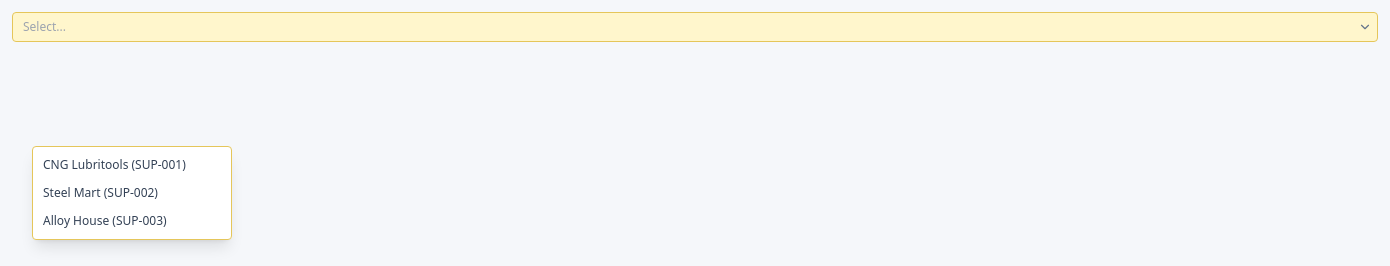
Scenario: SearchableSelect portal list › picks with the mouse and with the keyboard; Escape closes
Earlier steps of the test are not shown.
Click the option "Steel Mart (SUP-002)".
click(100, 192)  # box [43,184,158,201]
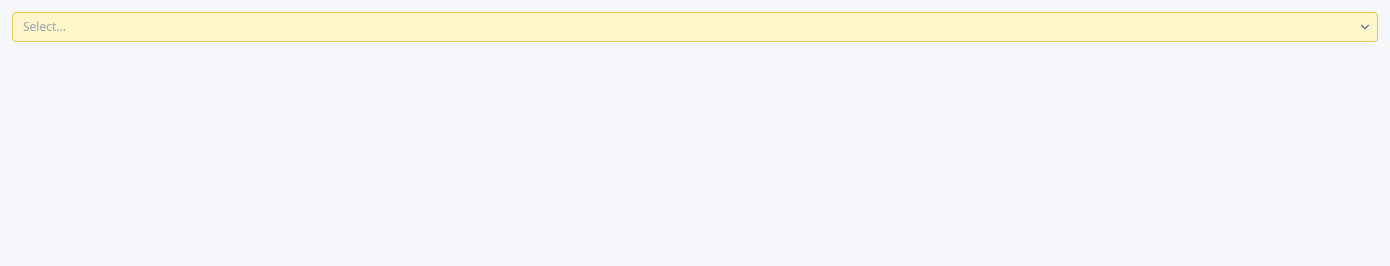
Check: the list is gone
Press ArrowDown in the dropdown named "Supplier", box [12,12,1378,42]
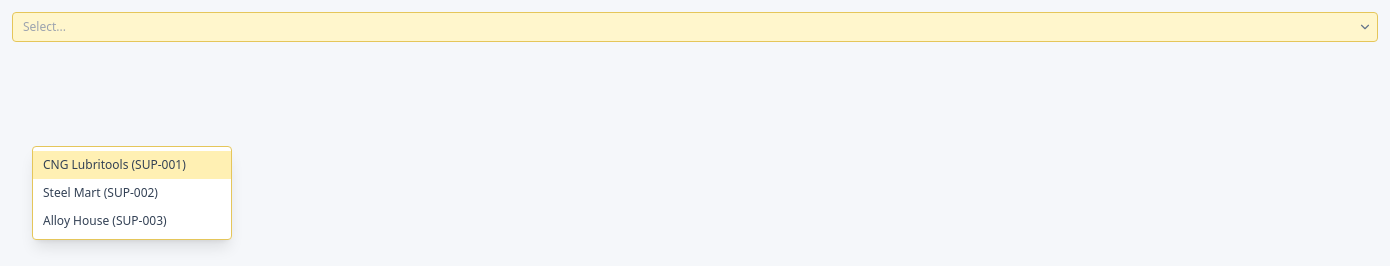
Check: the list is shown, box [32,146,232,240]
Type "alloy" into the dropdown named "Supplier".
click(695, 27); type("alloy")  # box [12,12,1378,42]
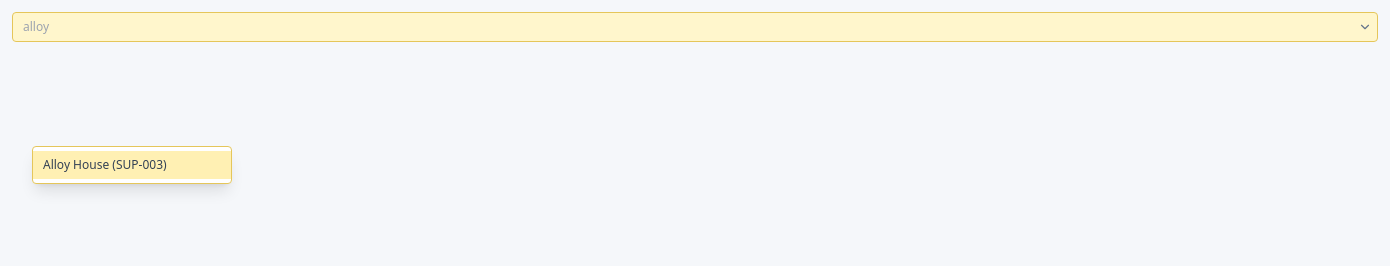
Press Enter in the dropdown named "Supplier", box [12,12,1378,42]
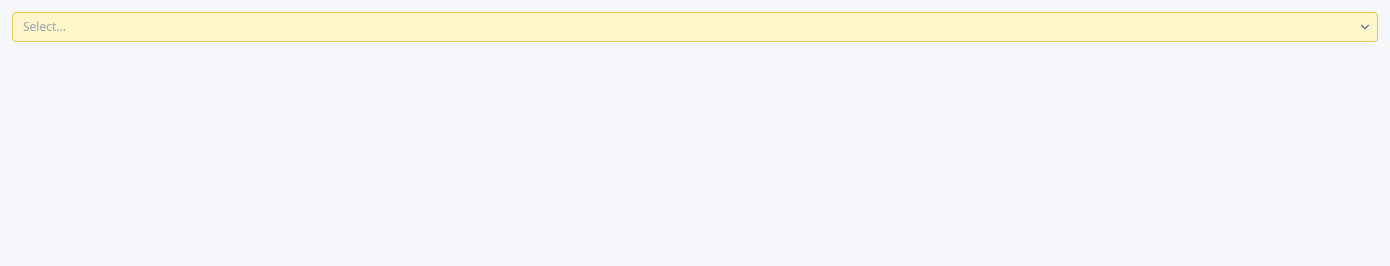
Click the dropdown named "Supplier".
click(695, 27)  # box [12,12,1378,42]
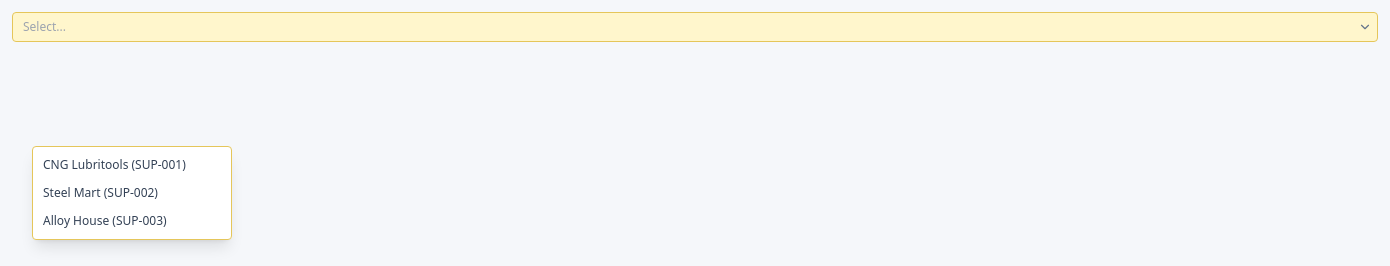
Press Escape in the dropdown named "Supplier", box [12,12,1378,42]
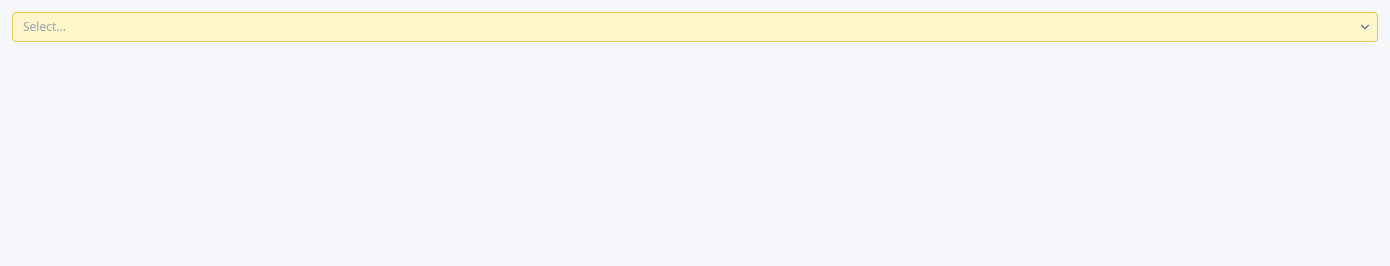
Check: the list is gone
